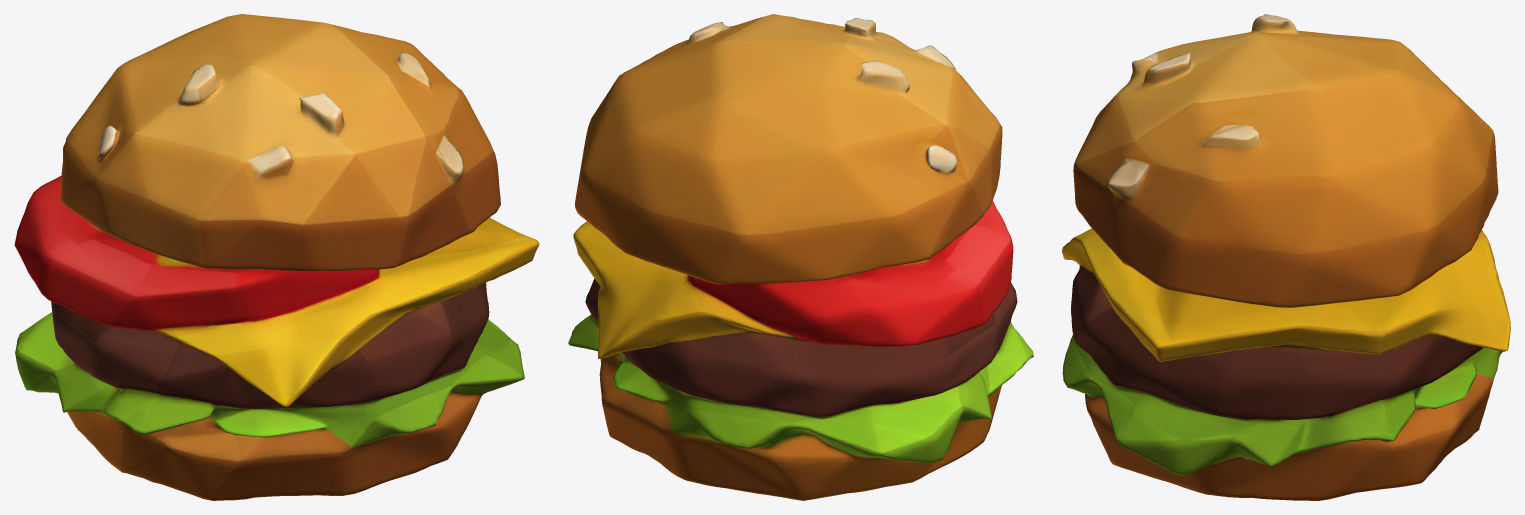
The model's file is tripo_convert_6d3d1313-ddc7-465d-a2da-6a4f21f59b69.fbx.
The picture shows the model from 3 angles, left to right: view 1: azimuth 30°, elevation 25°; view 2: azimuth 150°, elevation 25°; view 3: azimuth 270°, elevation 25°; orthographic projection.
Parts seen in each view (by area): view 1: tripo_node_6d3d1313; view 2: tripo_node_6d3d1313; view 3: tripo_node_6d3d1313.
Boxes of the visible parts, x1,y1,x2,y2 form: tripo_node_6d3d1313: (14,14,539,500); tripo_node_6d3d1313: (568,14,1033,500); tripo_node_6d3d1313: (1062,14,1510,500).
Bounding box in the file's own units: 97.33 × 92.14 × 84.67.
Materials: 1 (1 with a texture image).
